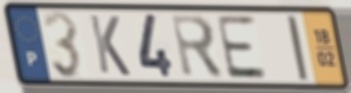3: (42, 9, 84, 81)
4: (137, 12, 179, 81)
E: (213, 13, 270, 81)
I: (284, 13, 312, 83)
K: (87, 13, 133, 79)
R: (168, 12, 227, 81)
